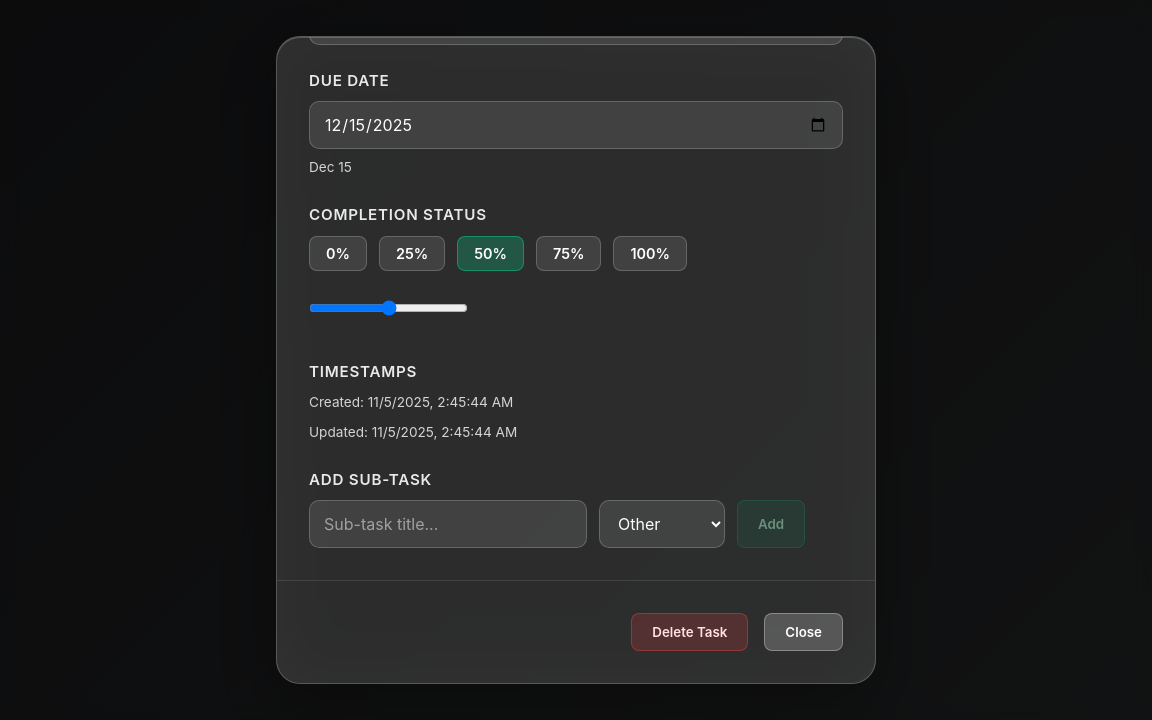
TaskDetail Component › enables add sub-task button when input has text
(page scrolled)
Type "New Sub Task" into the field with placeholder "Sub-task title..." at (448, 524), box [309,500,587,548]
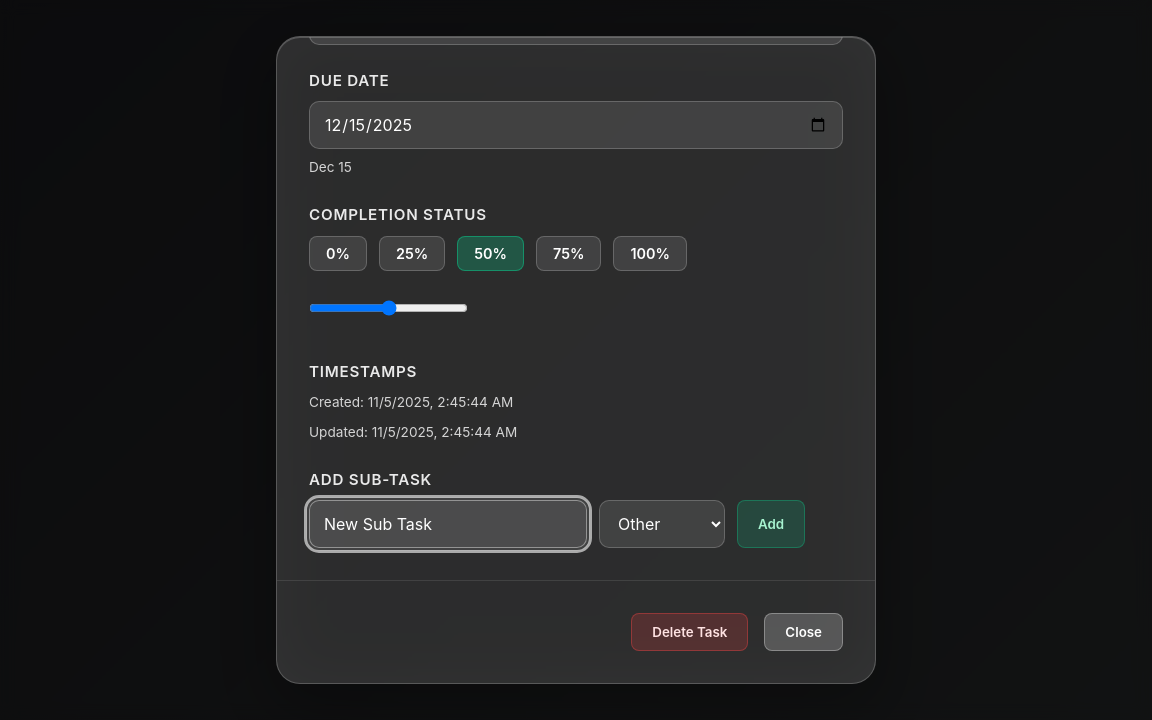
Now the button "Add" is enabled, box [737,500,805,548]
